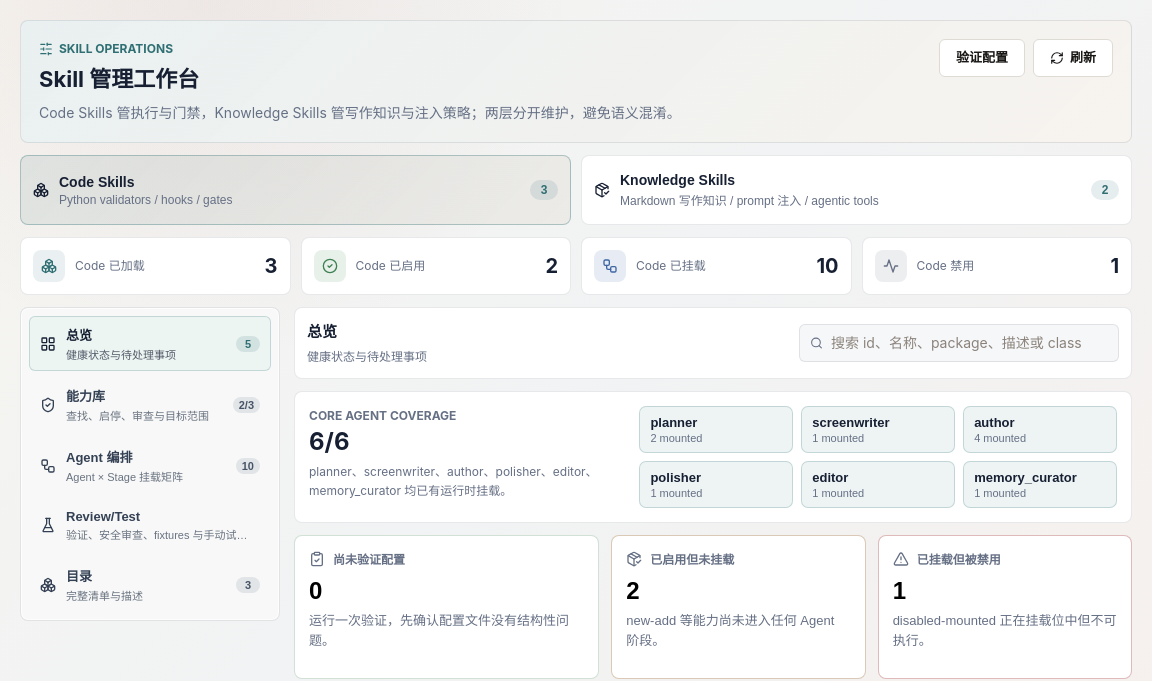
Scenario: SkillVisibilityPanel › capability filters and search apply across id, package, description, and class
Click the button "能力库 查找、启停、审查与目标范围 2/3": (150, 405) [29,377,271,432]
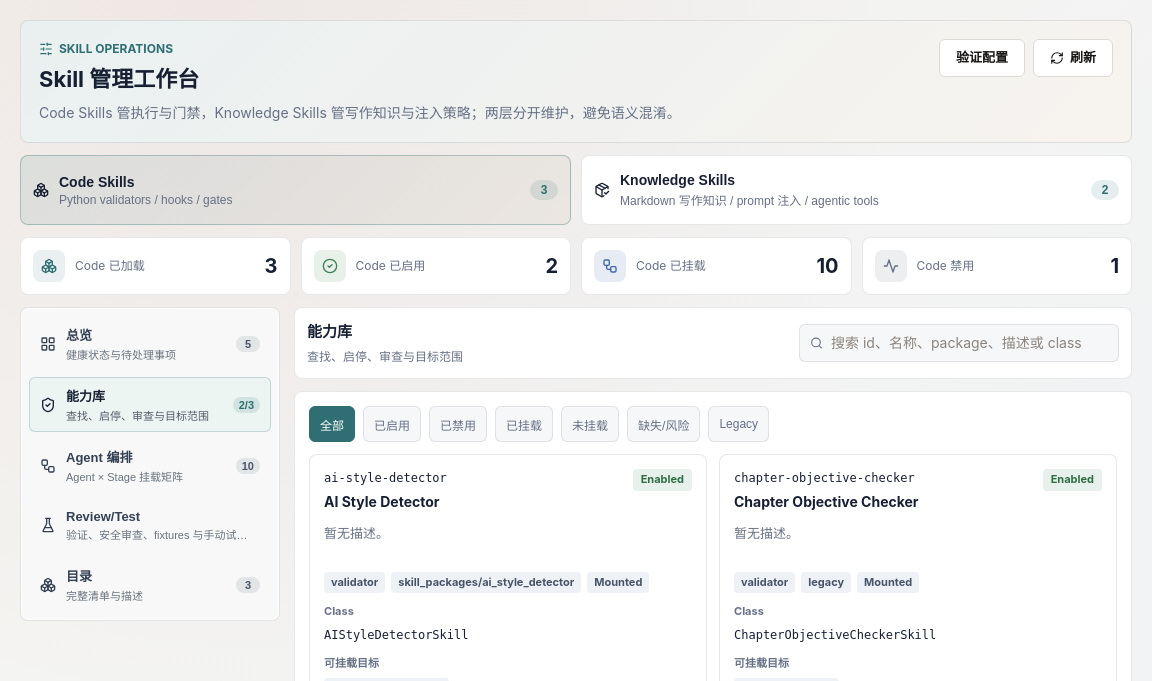
Click the button "Legacy": (739, 424) [708,406,769,442]
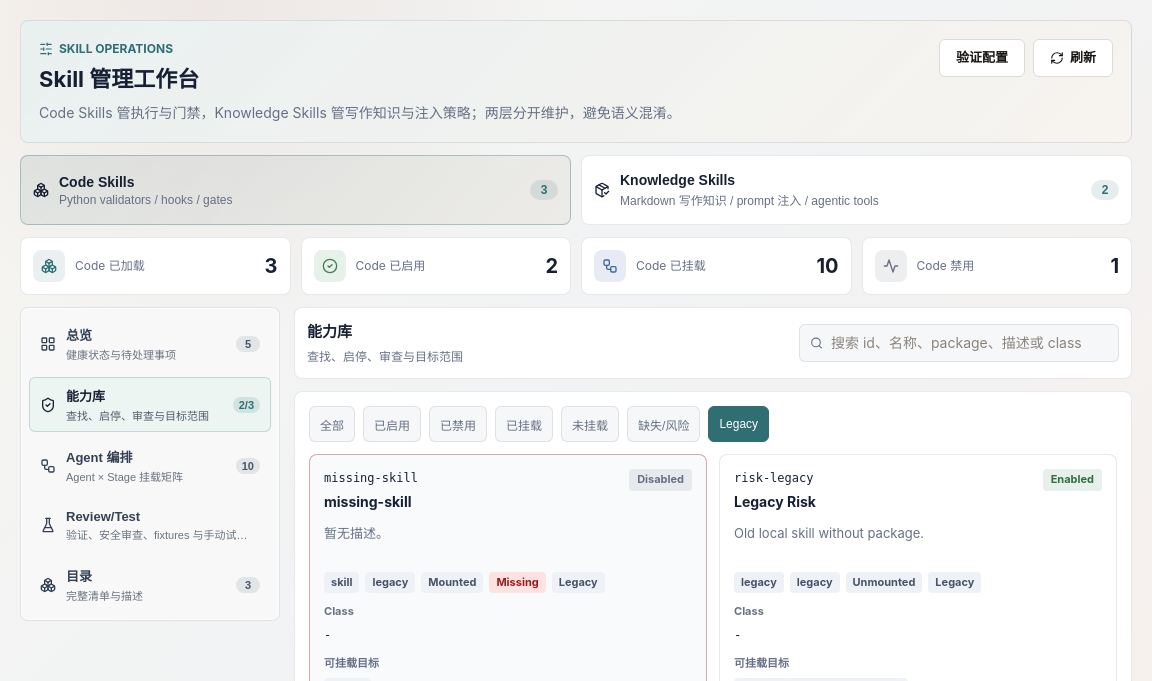
Expected: the text "Style Polisher" is not shown
Expected: the text "Legacy Risk" is shown, [734,492,816,514]
Click the button "全部": (332, 424) [309,406,355,442]
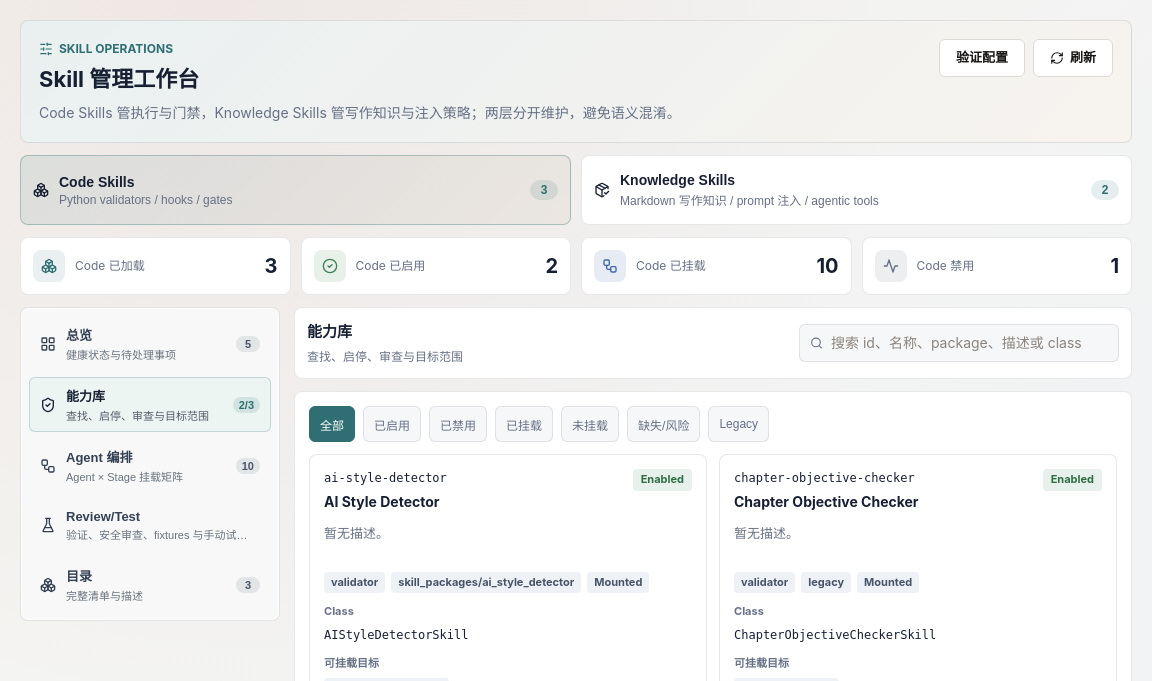
In the field with placeholder "搜索 id、名称、package、描述或 class": (970, 343) [831,325,1108,361], type "StyleSkill"
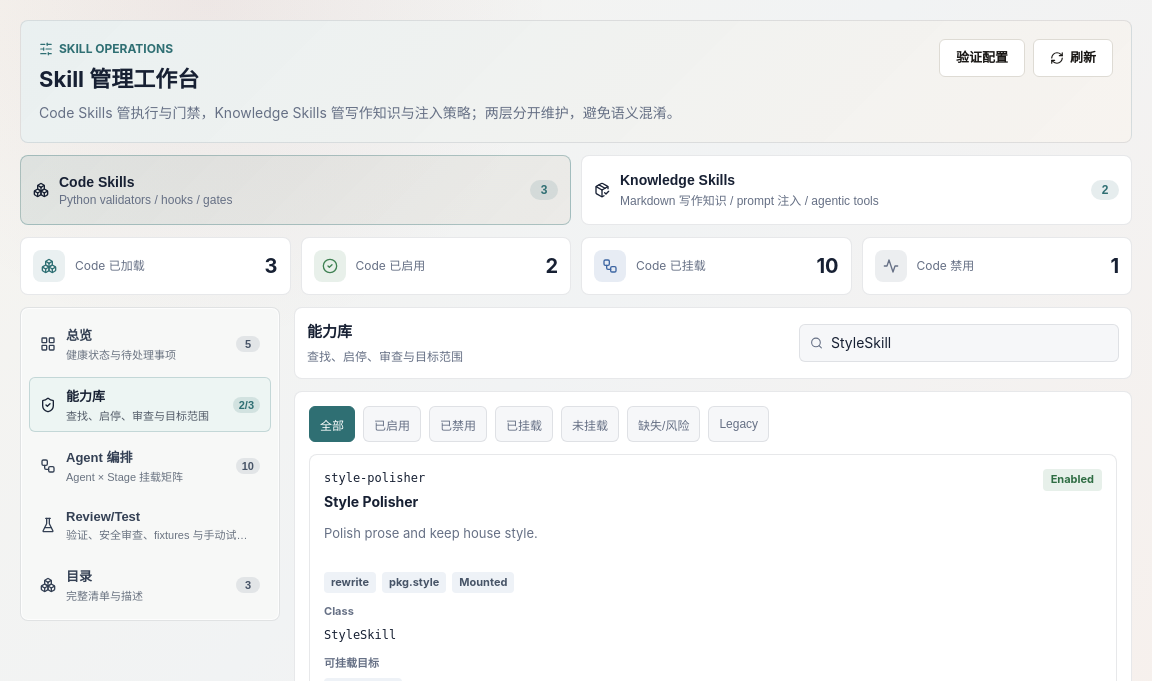
Expected: the text "Legacy Risk" is not shown
Expected: the text "Style Polisher" is shown, [324,492,425,514]
Replace the text in the field with placeholder "搜索 id、名称、package、描述或 class" with "pkg.guard": (970, 343) [831,325,1108,361]
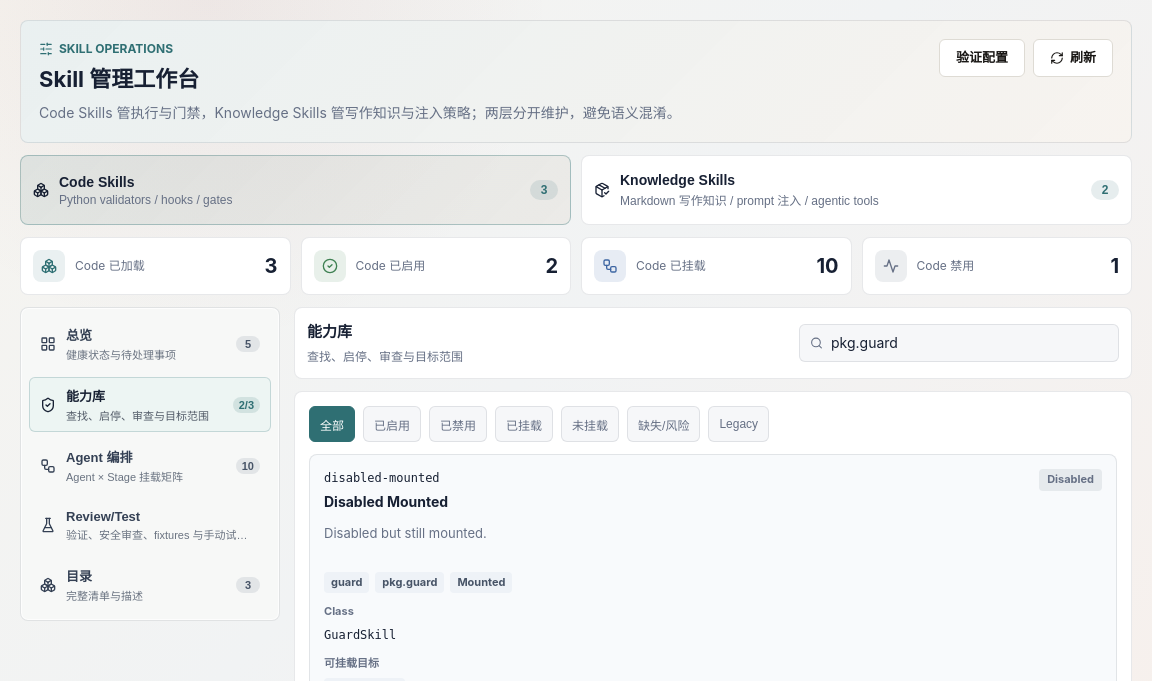
Expected: the text "Disabled Mounted" is shown, [324,492,448,514]
